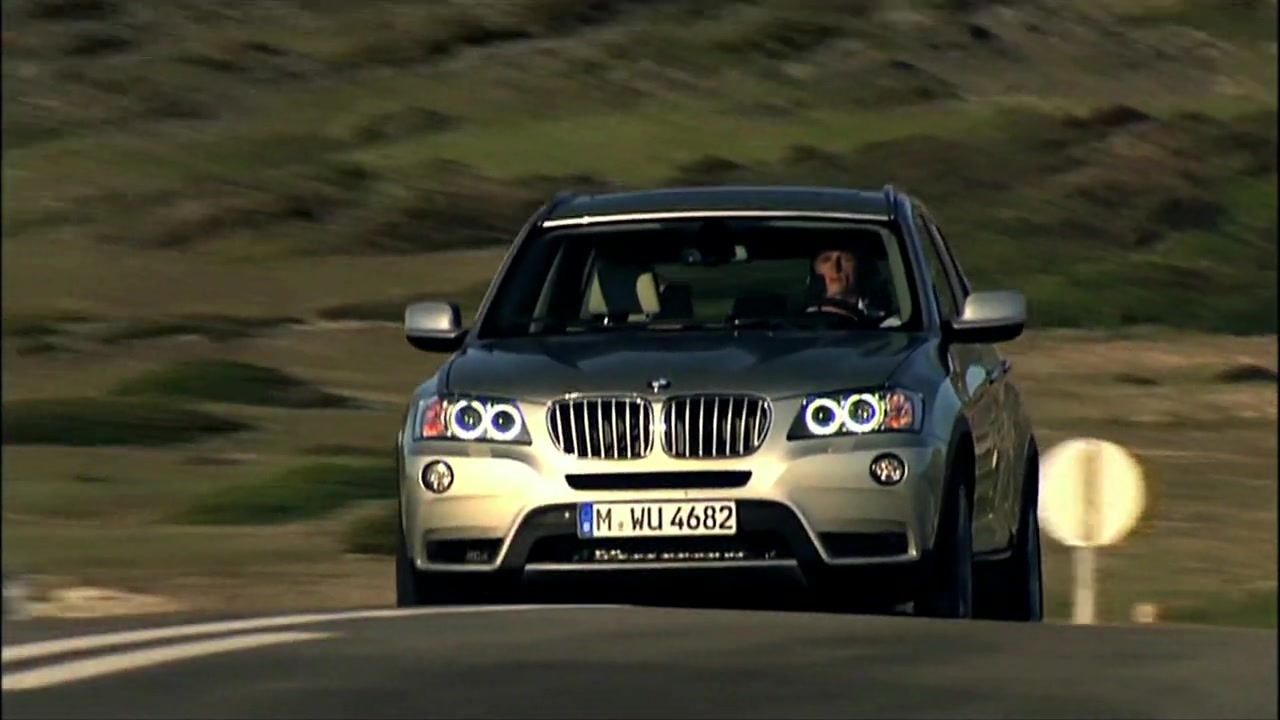car: (390, 177, 1052, 623)
